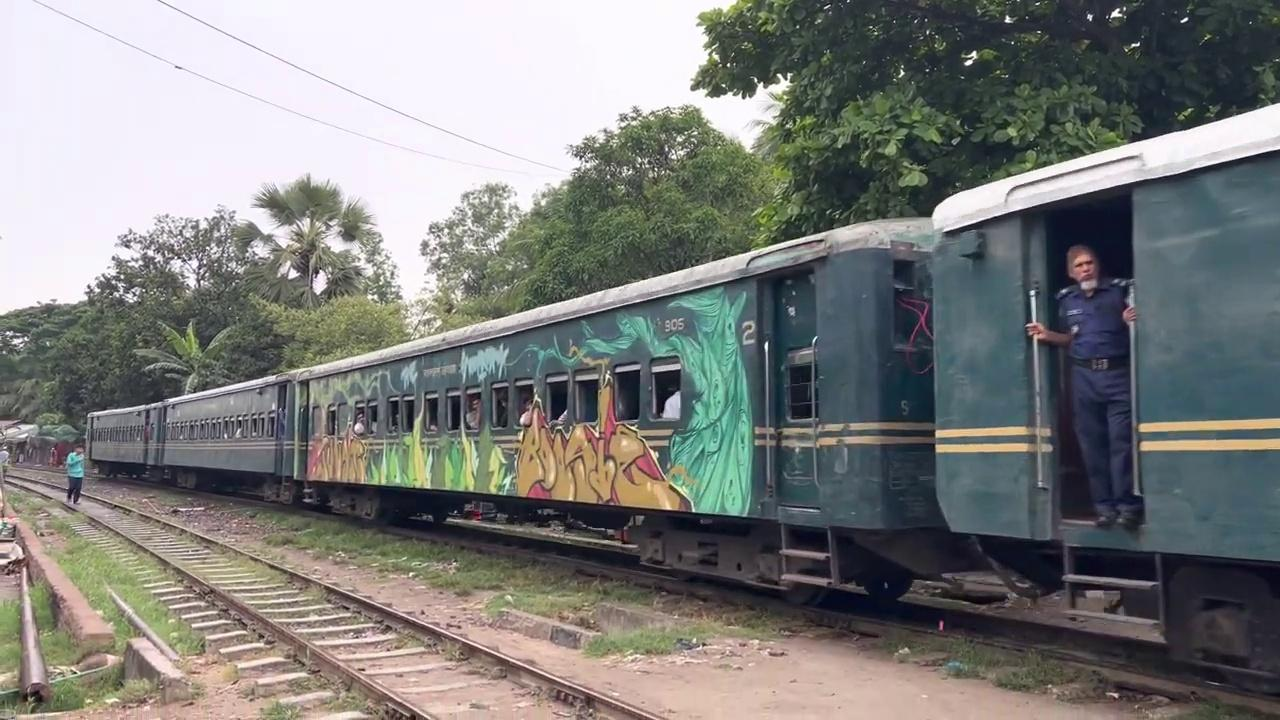Fence: (1024, 243, 1141, 527), (65, 443, 85, 504)
Garbage: (1026, 286, 1047, 489)
Motorcycle: (49, 458, 709, 720)
Potted-plant: (80, 101, 1277, 698)
Railroad-crossing: (689, 0, 1279, 245), (486, 102, 781, 314), (230, 171, 383, 311), (131, 317, 238, 395)
